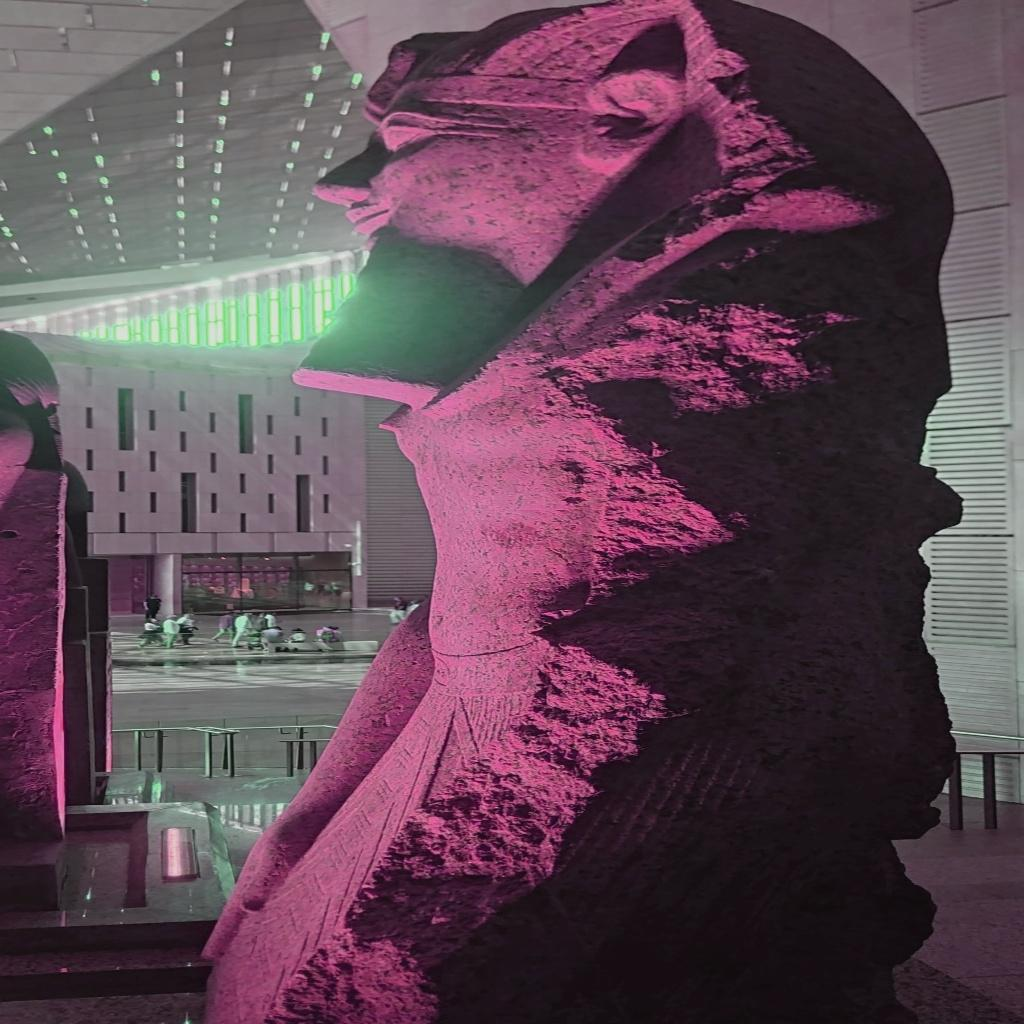Standing Statue of Thutmose III: (194, 2, 970, 1021)
